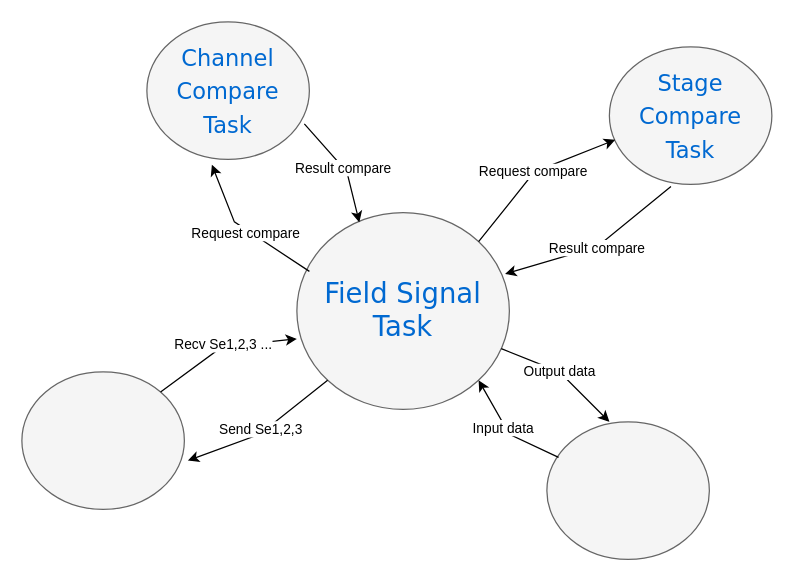
This 794x581 diagram has some shape labels left out. Each missing label, with the centre of its shape:
"Field UDP Task" belongs at pixel 102 440.
"IOComm Task" belongs at pixel 627 490.
